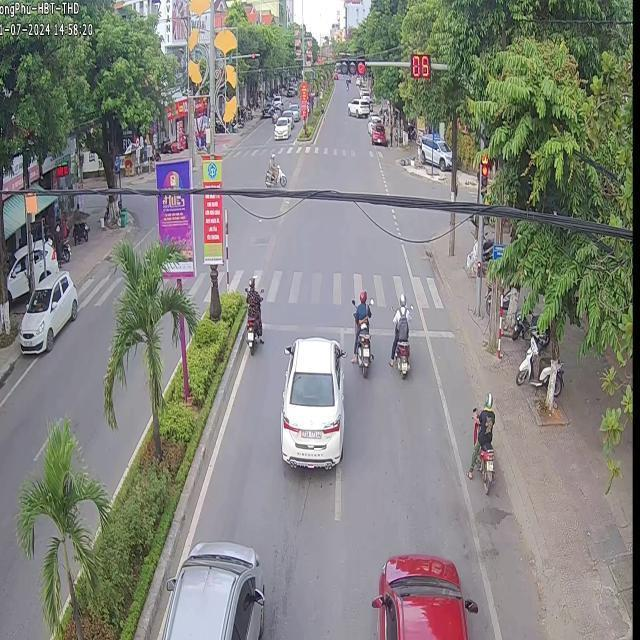car: (160, 540, 263, 638), (370, 554, 476, 638), (279, 336, 344, 467), (17, 269, 77, 351)
motobike: (466, 391, 493, 491), (244, 276, 260, 351), (354, 316, 369, 376), (394, 338, 408, 376)
red_light: (409, 54, 432, 79), (340, 58, 364, 73), (479, 151, 487, 196)
stop_line: (262, 321, 353, 334), (368, 325, 392, 337)
